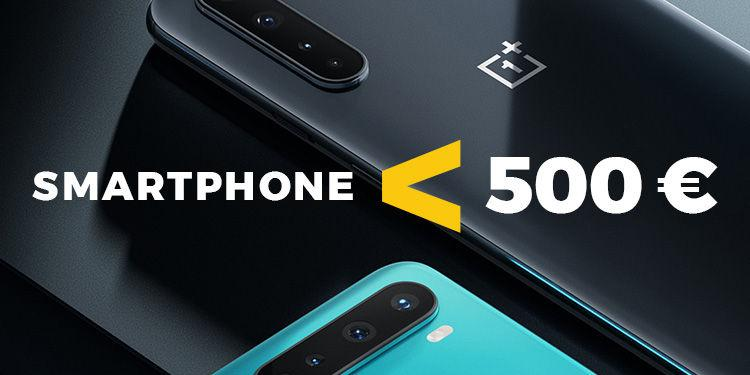Smartphone: (143, 0, 750, 360), (171, 261, 588, 375)
